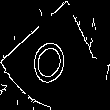O_NE: (31, 22, 79, 88)
